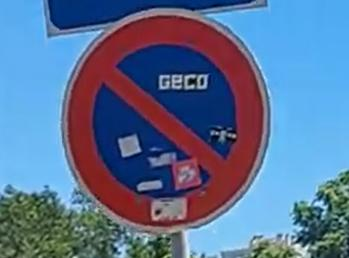estacionamento proibido: (62, 5, 274, 234)
